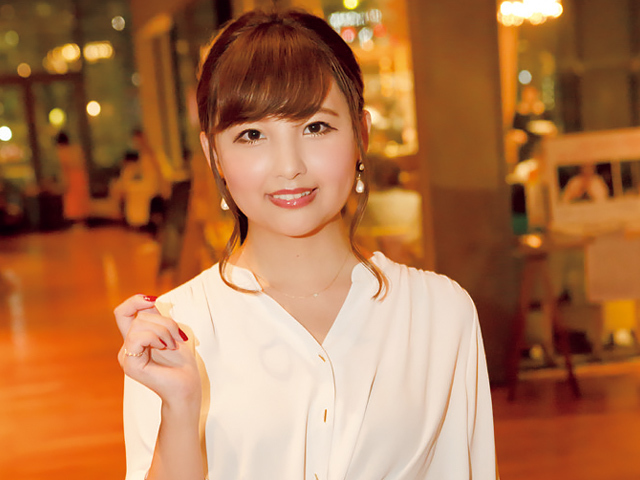face: (198, 52, 371, 238)
hand: (113, 293, 212, 405)
